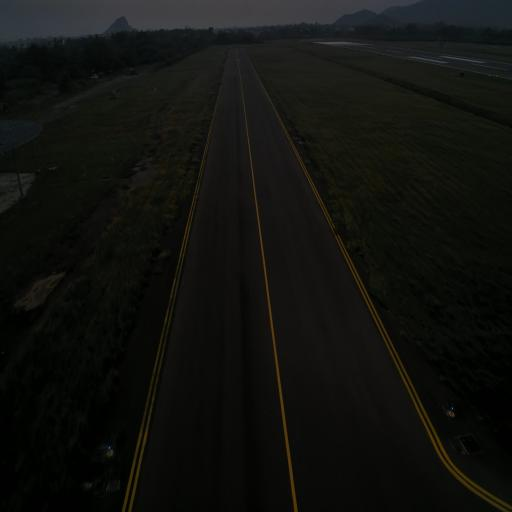on: (107, 441, 115, 462), (449, 402, 456, 418)
